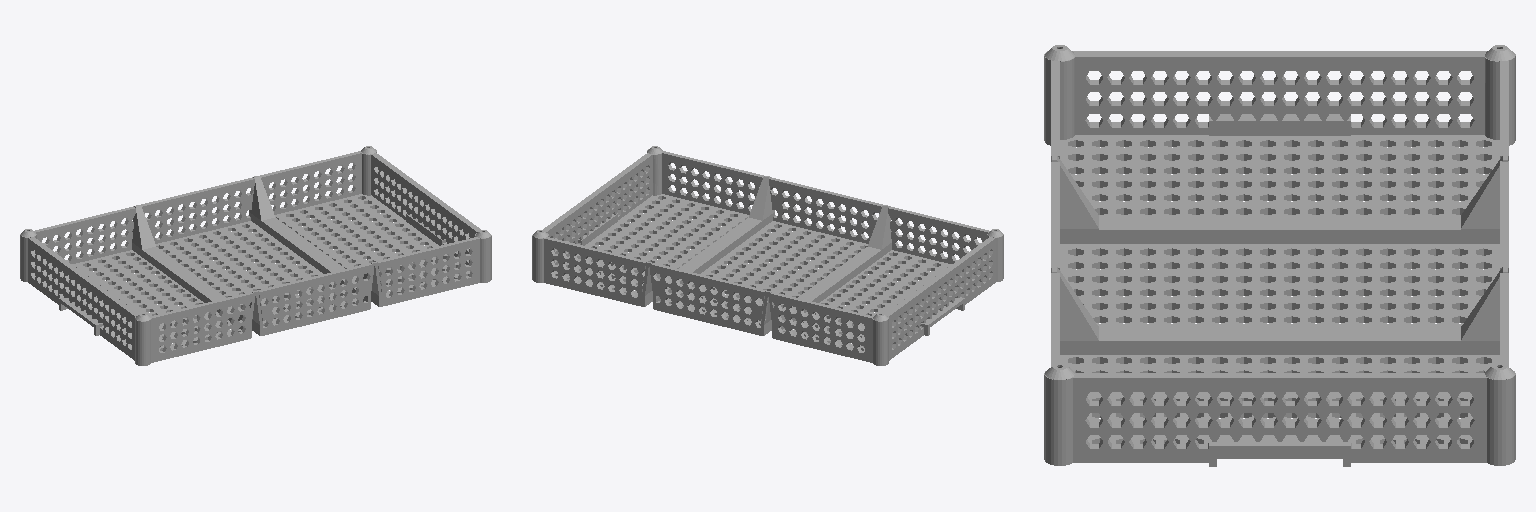
The robot description file, URDF, robot "bandeja":
<?xml version="1.0" ?>
<!-- =================================================================================== -->
<!-- |    This document was autogenerated by xacro from src/bandeja_description/urdf/bandeja.xacro | -->
<!-- |    EDITING THIS FILE BY HAND IS NOT RECOMMENDED                                 | -->
<!-- =================================================================================== -->
<robot name="bandeja">
  <material name="silver">
    <color rgba="0.700 0.700 0.700 1.000"/>
  </material>
  <gazebo reference="base_link">
    <material>Gazebo/Silver</material>
    <mu1>0.2</mu1>
    <mu2>0.2</mu2>
    <self_collide>true</self_collide>
    <gravity>true</gravity>
  </gazebo>
  <link name="base_link">
    <inertial>
      <origin rpy="0 0 0" xyz="0.2589231849793322 0.15409413662488208 0.01668275201406195"/>
      <mass value="8.678276715774595"/>
      <inertia ixx="0.098494" ixy="-6e-06" ixz="-1e-06" iyy="0.246762" iyz="1e-06" izz="0.338976"/>
    </inertial>
    <visual>
      <origin rpy="0 0 0" xyz="0 0 0"/>
      <geometry>
        <mesh filename="package://bandeja_description/meshes/base_link.stl" scale="0.001 0.001 0.001"/>
      </geometry>
      <material name="silver"/>
    </visual>
    <collision>
      <origin rpy="0 0 0" xyz="0 0 0"/>
      <geometry>
        <mesh filename="package://bandeja_description/meshes/base_link.stl" scale="0.001 0.001 0.001"/>
      </geometry>
    </collision>
  </link>
</robot>

--- What the picture shows (computed from the rendered views, not written in the file) ---
The picture shows the robot from 3 angles, left to right: view 1: azimuth 30°, elevation 25°; view 2: azimuth 150°, elevation 25°; view 3: azimuth 270°, elevation 25°; orthographic projection.
Model bandeja with 1 links and 0 joints (none), rooted at base_link, posed every joint at zero.
Links seen in each view (by area): view 1: base_link; view 2: base_link; view 3: base_link.
Link boxes in pixels (<box>): base_link: <box>20,146,491,365</box>; base_link: <box>532,146,1003,365</box>; base_link: <box>1044,45,1515,466</box>.
Bounding box of the posed robot: 0.5178 × 0.308 × 0.0669 m (x, y, z).
Meshes: 1 distinct files referenced, 1 mesh visuals loaded (1 binary STL).
